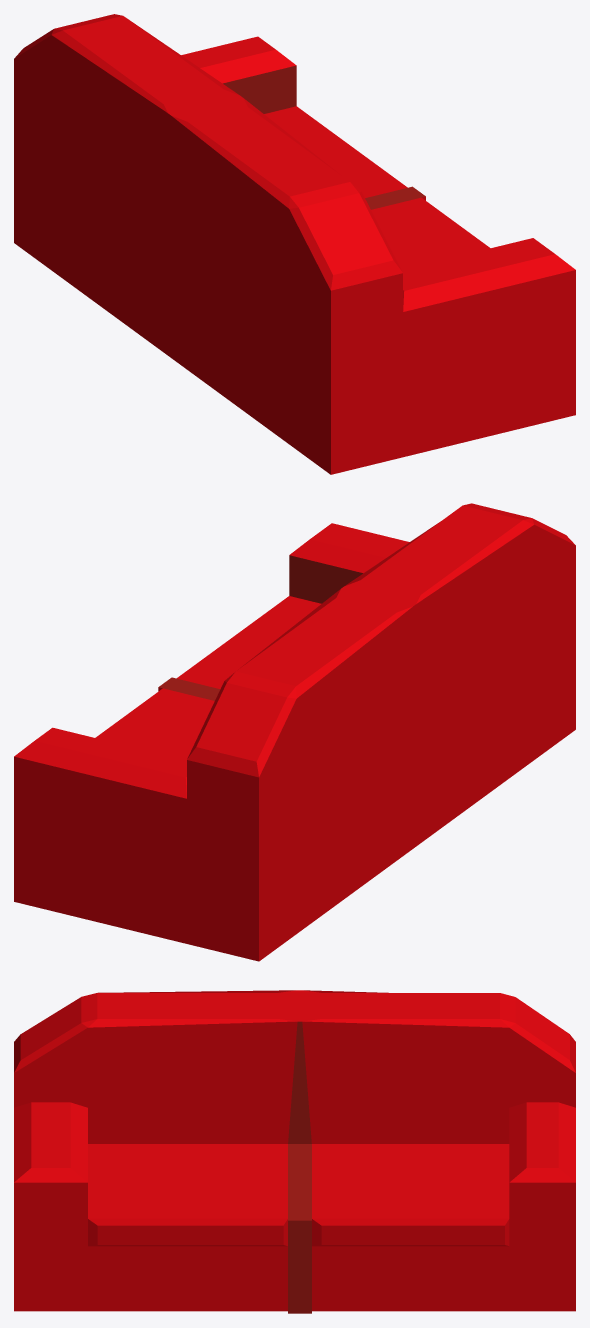
Rendered from couch.fbx.
3 renders of one model, top to bottom at view 1: azimuth 30°, elevation 25°; view 2: azimuth 150°, elevation 25°; view 3: azimuth 270°, elevation 25°, orthographic. The views are drawn at different scales.
Visible parts, largest first — view 1: Cube; view 2: Cube; view 3: Cube.
Part boxes in pixels (x1,y1,x2,y2): Cube: (14,14,575,474); Cube: (14,503,575,961); Cube: (14,990,575,1313).
Size of the model in its own units: 133 by 123 by 291.
